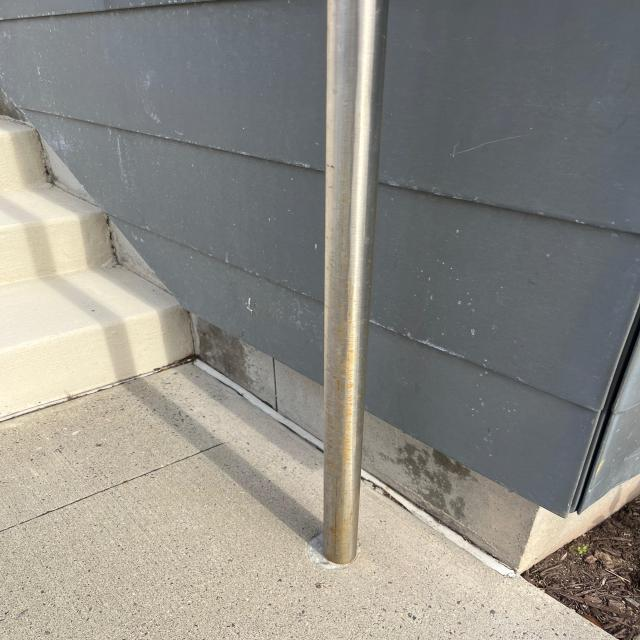Uniform Corrosion: (323, 196, 381, 560)
